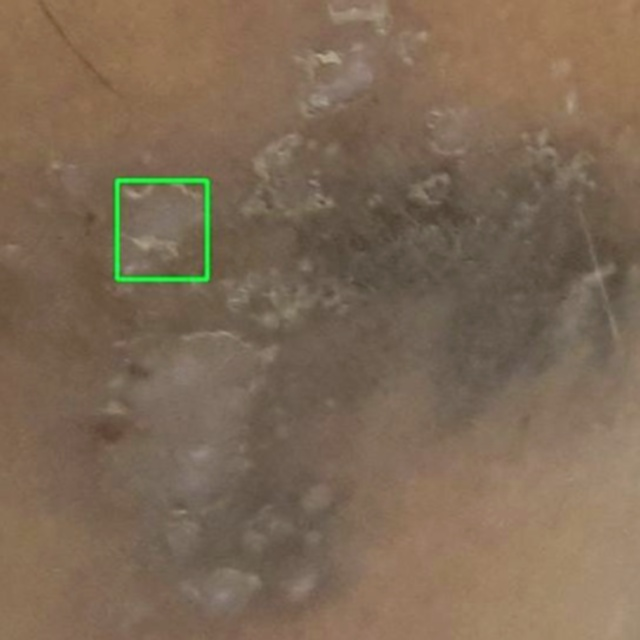Contact Dermatitis: (117, 180, 207, 279)
